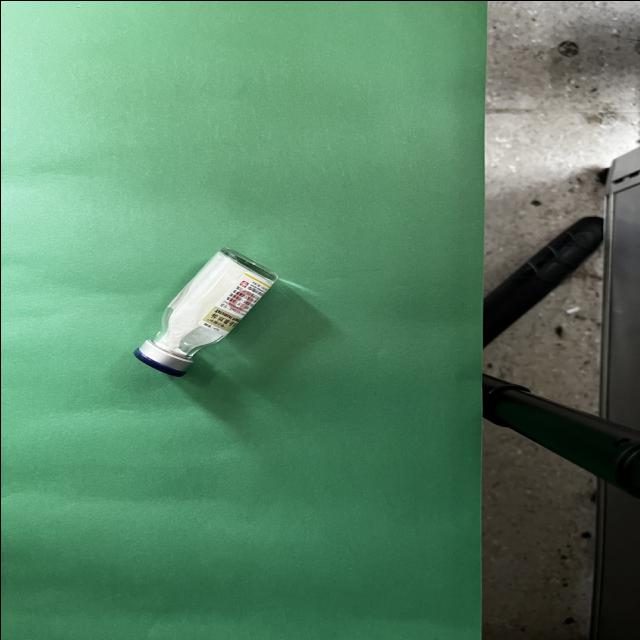Vials: (134, 248, 277, 376)
